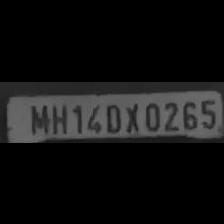0: (140, 99, 160, 131)
1: (68, 101, 84, 133)
2: (160, 98, 178, 130)
4: (84, 101, 103, 133)
5: (199, 96, 219, 128)
6: (179, 97, 197, 128)
D: (102, 100, 122, 132)
H: (50, 100, 70, 134)
M: (26, 100, 50, 134)
X: (122, 98, 140, 132)
